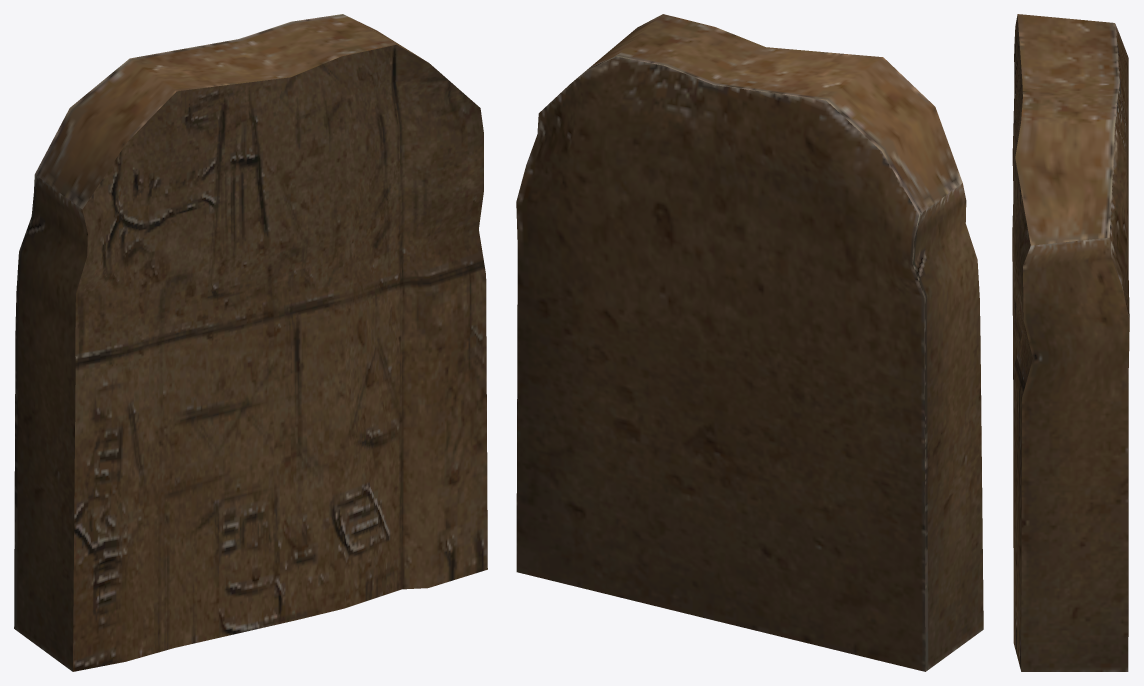
File: clay_tablet_small.dae
3 views of the same model, side by side, from view 1: azimuth 30°, elevation 25°; view 2: azimuth 150°, elevation 25°; view 3: azimuth 270°, elevation 25° (orthographic). The views are drawn at different scales.
Parts seen in each view (by area): view 1: polySurface1; view 2: polySurface1; view 3: polySurface1.
Boxes of the visible parts, x1,y1,x2,y2 form: polySurface1: (14,14,487,671); polySurface1: (516,14,983,671); polySurface1: (1012,14,1129,671).
Size of the model in its own units: 0.6803 by 0.869 by 0.1791.
